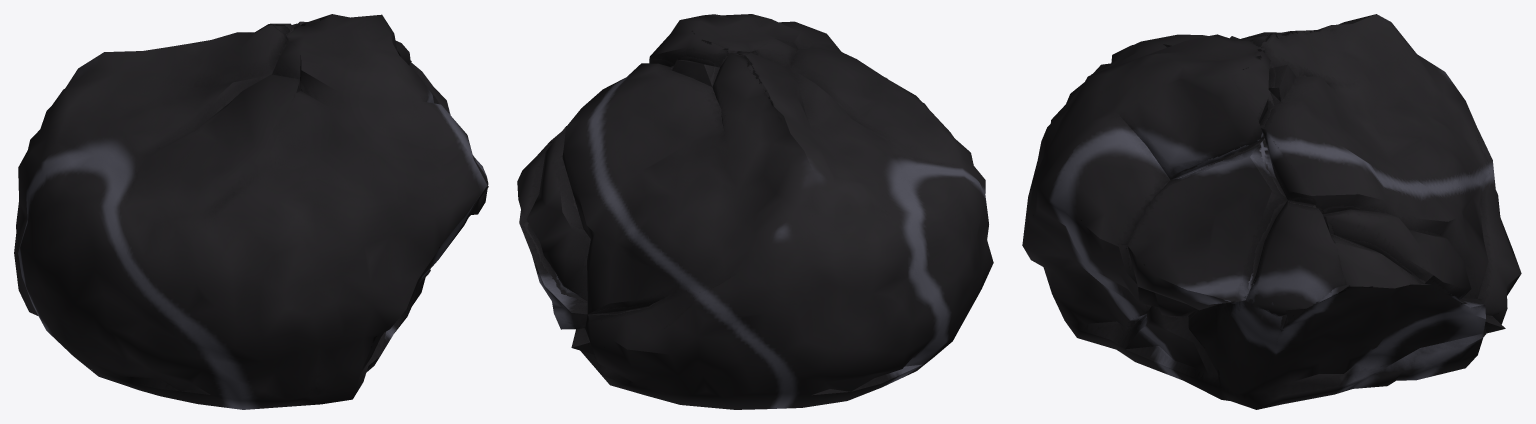
The model's file is mineral_carbon.fbx.
The picture shows the model from 3 angles, left to right: view 1: azimuth 30°, elevation 25°; view 2: azimuth 150°, elevation 25°; view 3: azimuth 270°, elevation 25°; orthographic projection. The views are drawn at different scales.
Visible parts, largest first — view 1: mineral_carbon; view 2: mineral_carbon; view 3: mineral_carbon.
Boxes of the visible parts, <box> form: mineral_carbon: <box>14,14,488,409</box>; mineral_carbon: <box>517,14,993,409</box>; mineral_carbon: <box>1022,14,1521,409</box>.
Size of the model in its own units: 2.09 by 1.39 by 1.98.
1 material, 1 textured.
